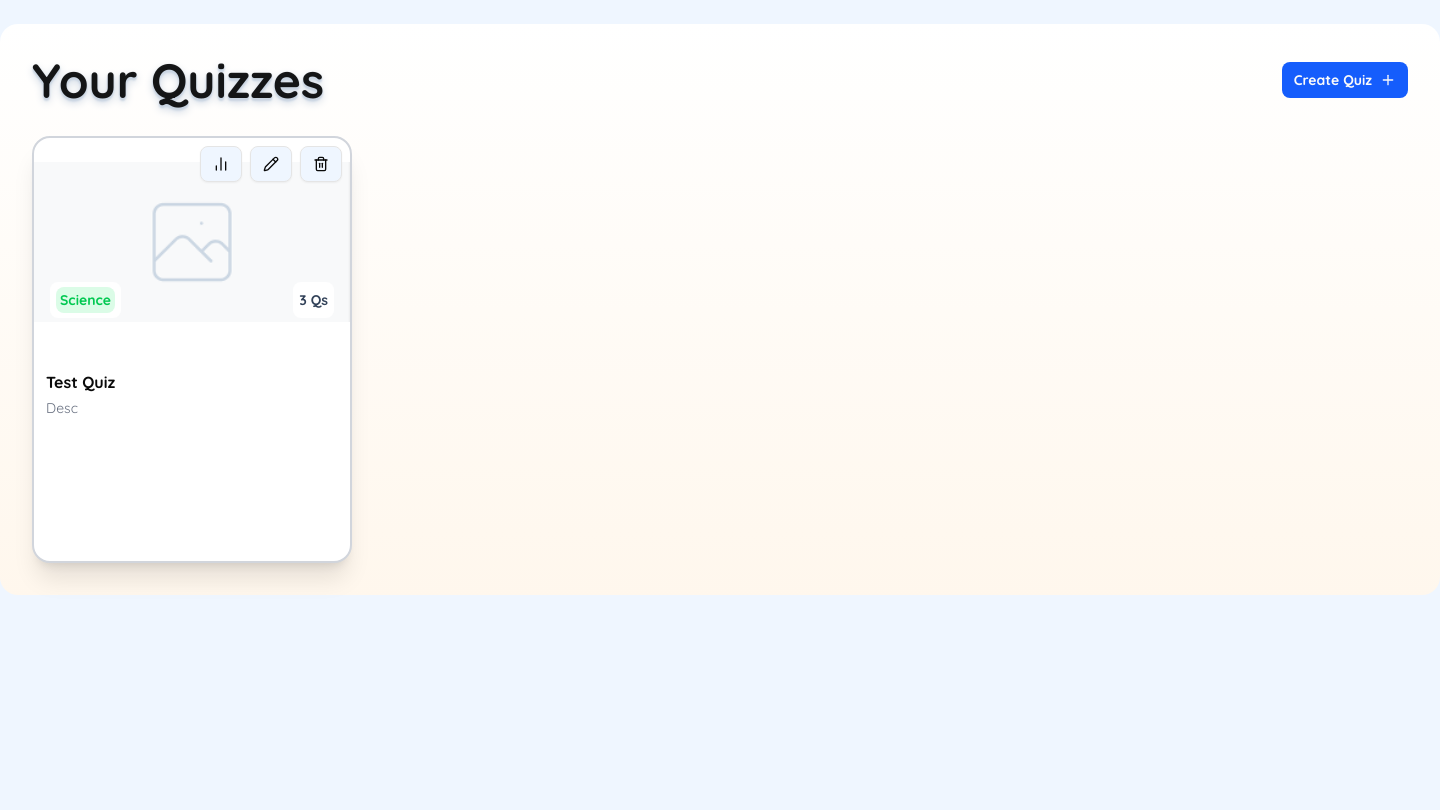
it: DeleteConfirmDialog UI behaviour › FE-74: dismisses the dialog when Cancel is clicked
Click the button named "delete quiz".
click(321, 164)  # box [300,146,342,182]
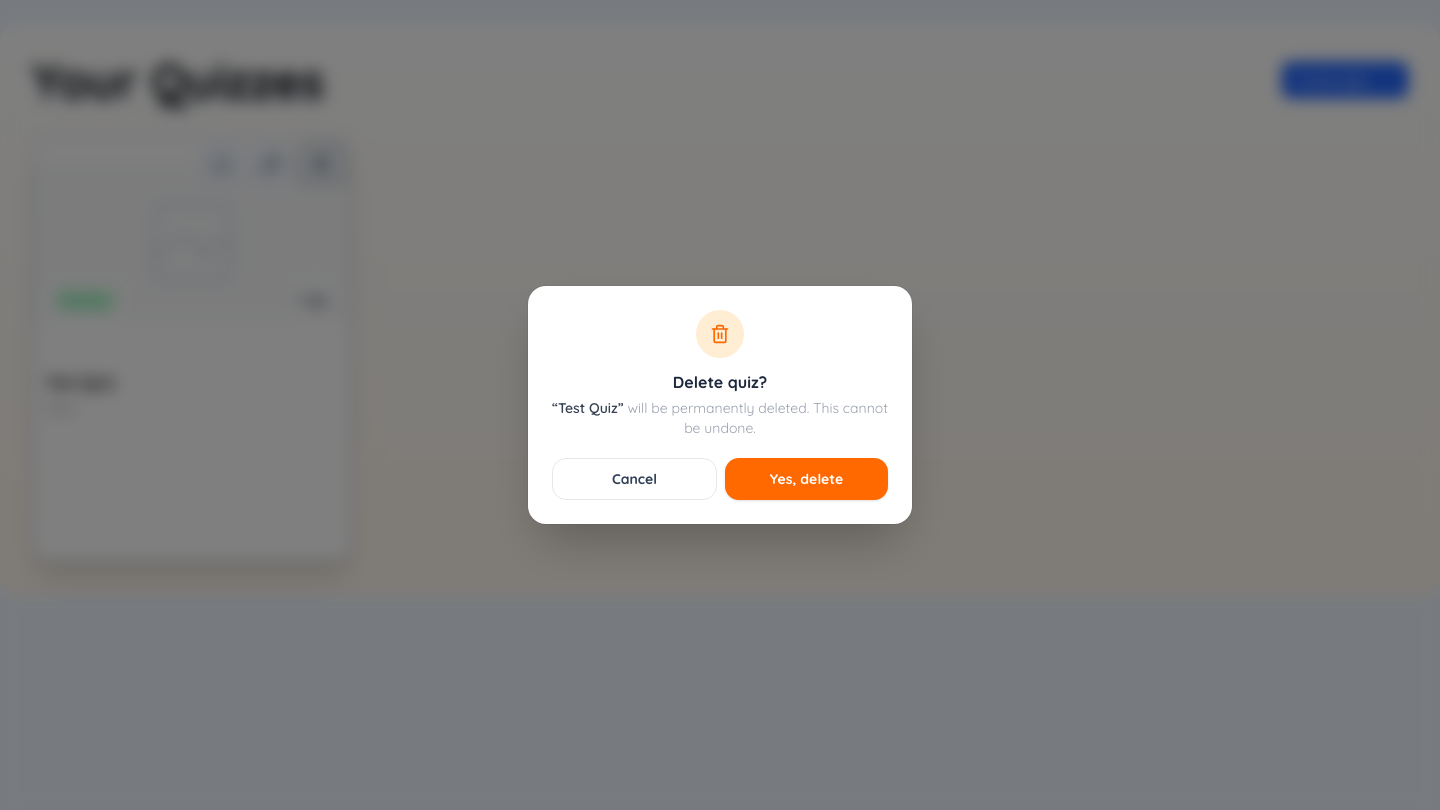
Click the button "Cancel".
click(634, 479)  # box [552,458,717,500]
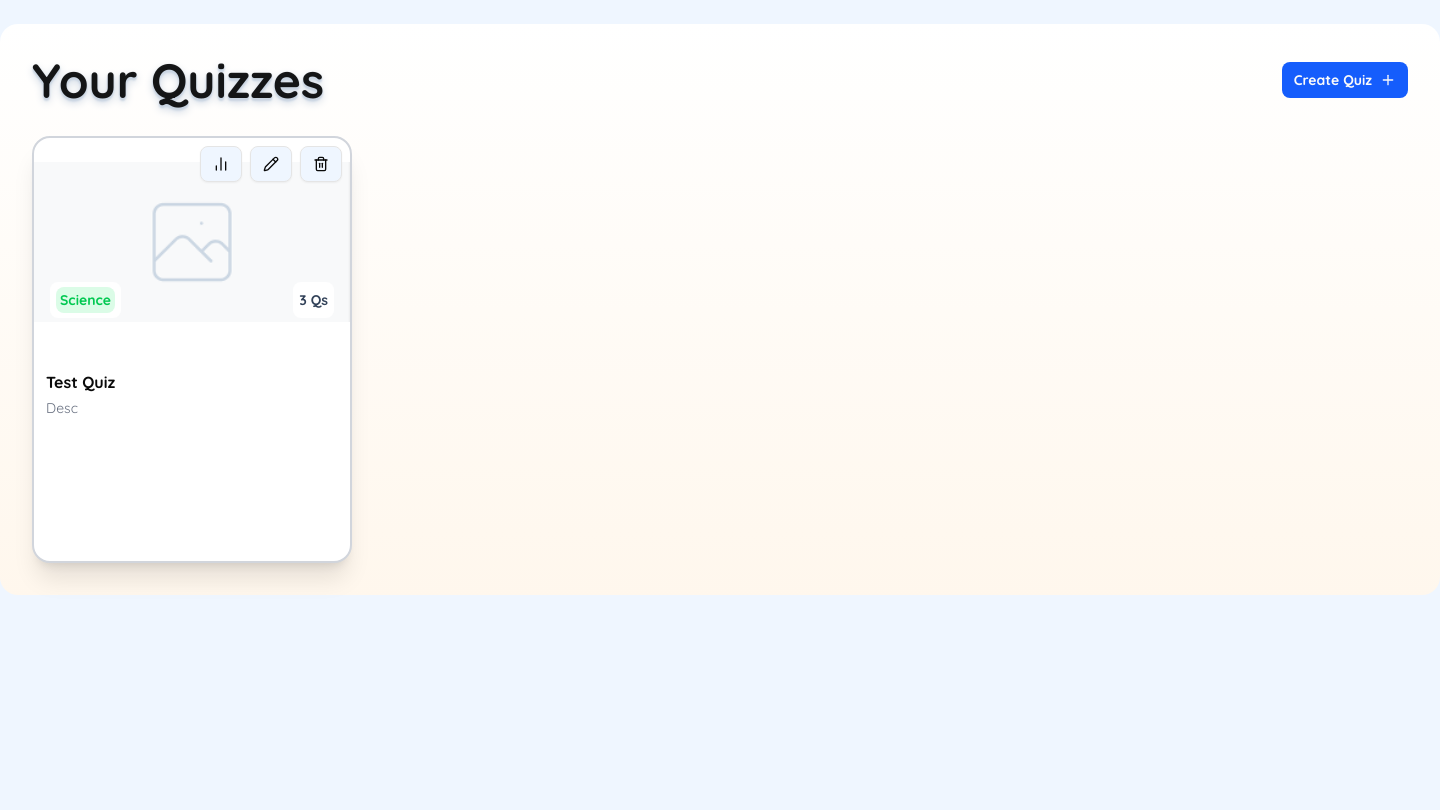
Expected: the heading "Delete quiz?" is gone
